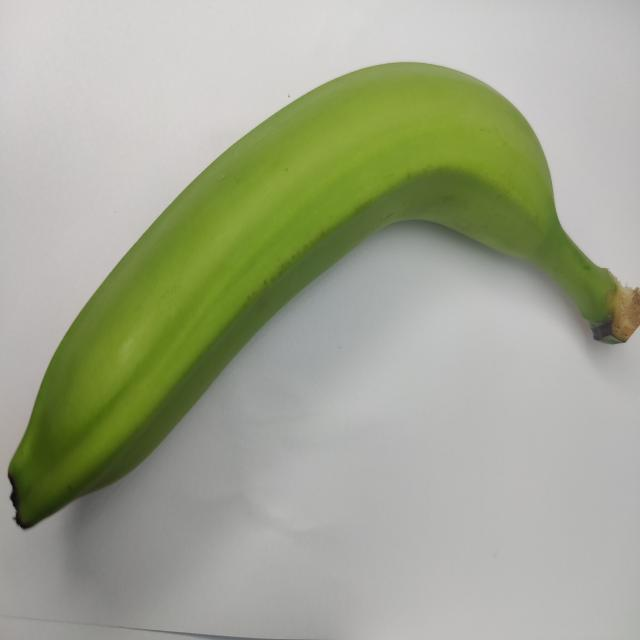raw: (1, 55, 640, 552)
